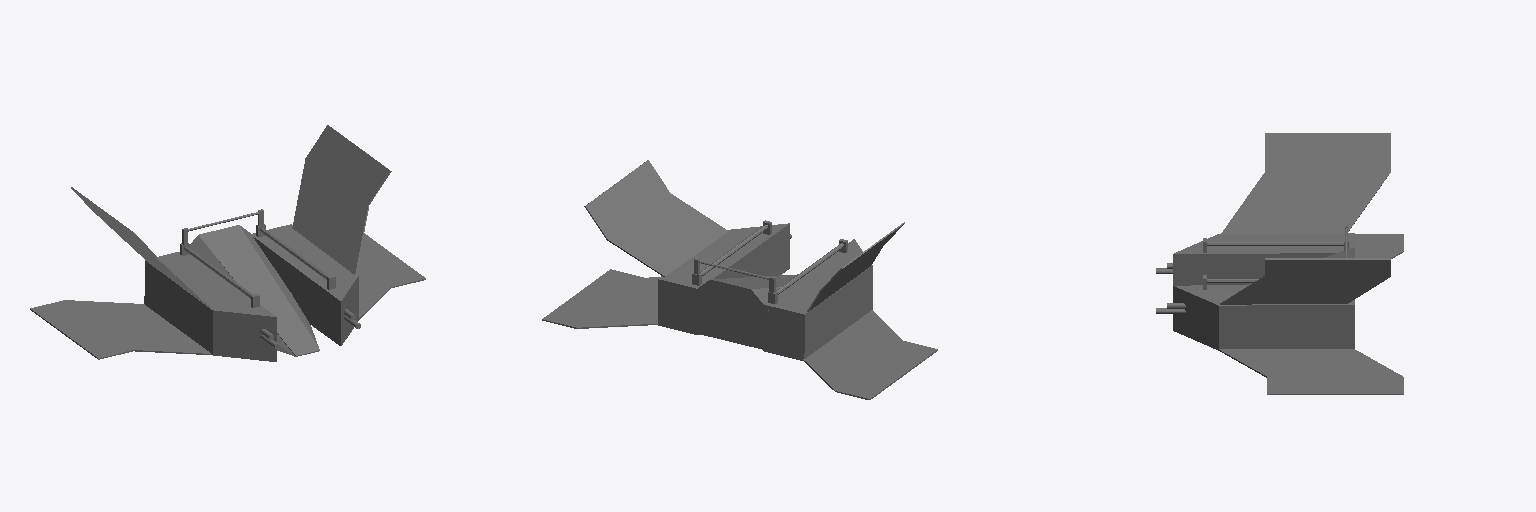
Rendered from SHIP_02.obj.
3 views of the same model, side by side, from view 1: azimuth 30°, elevation 25°; view 2: azimuth 150°, elevation 25°; view 3: azimuth 270°, elevation 25° (orthographic).
Parts seen in each view (by area): view 1: Ship_04:polySurface1; view 2: Ship_04:polySurface1; view 3: Ship_04:polySurface1.
Part boxes in pixels (x1,y1,x2,y2): Ship_04:polySurface1: (30,125,425,361); Ship_04:polySurface1: (542,160,937,399); Ship_04:polySurface1: (1156,133,1403,394).
Size of the model in its own units: 12.9 by 4.51 by 8.45.